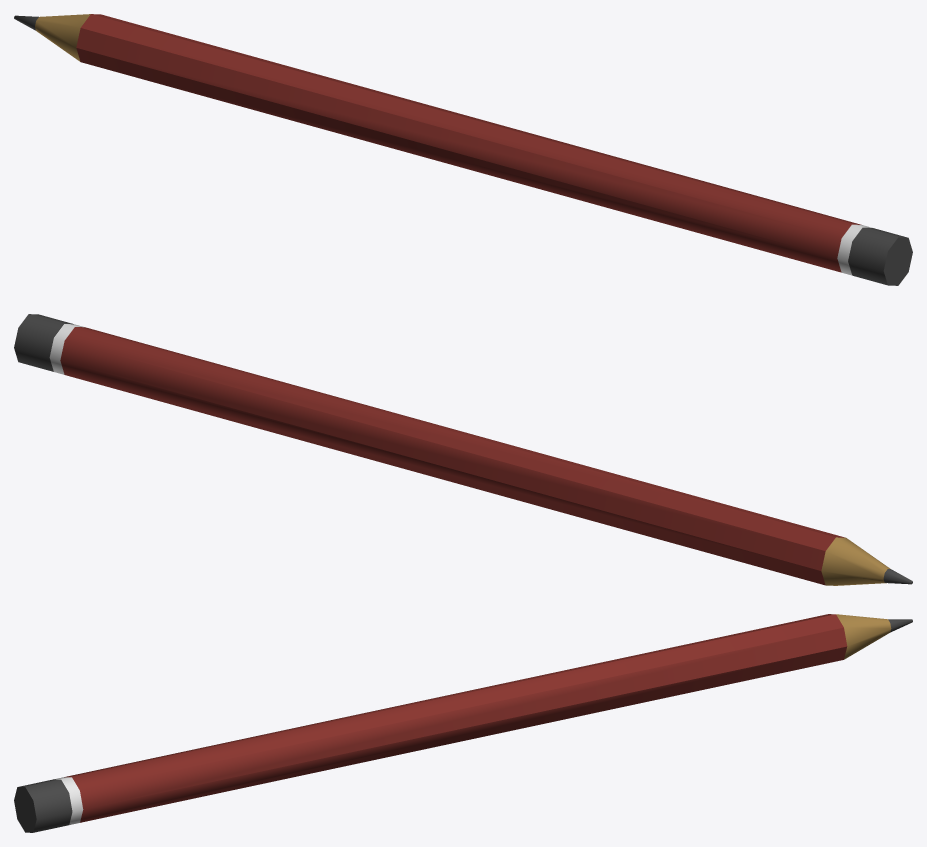
The model's file is drawerlow 1.fbx.
3 views of the same model, one above another, from view 1: azimuth 30°, elevation 25°; view 2: azimuth 210°, elevation 25°; view 3: azimuth 270°, elevation 25° (orthographic). The views are drawn at different scales.
Parts seen in each view (by area): view 1: Pen_02.001; view 2: Pen_02.001; view 3: Pen_02.001.
Part boxes in pixels (x1,y1,x2,y2): Pen_02.001: (14,14,912,285); Pen_02.001: (14,314,912,585); Pen_02.001: (14,614,912,832).
Bounding box in the file's own units: 11.86 × 1.27 × 22.6.
